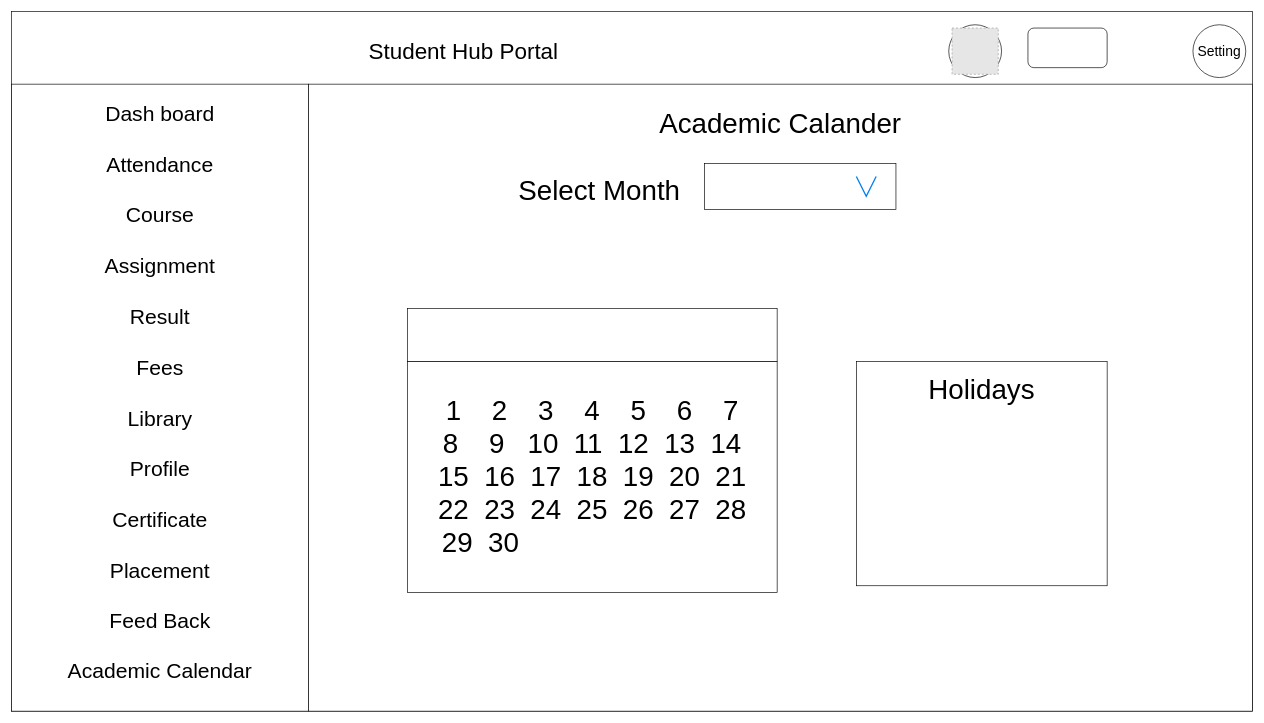
The diagram is 1264 pixels wide and 723 high, and some of its shapes have lost their labels. Grey dashed boxes stand in for pictures. The shapes that lost their labels are listed below. From the top down, each one's box as (x1, y1, x2, y2) in pixels, then its label:
(1027, 27, 1107, 68): Name
(704, 163, 896, 210): Month
(407, 308, 777, 361): S M T W T F S
